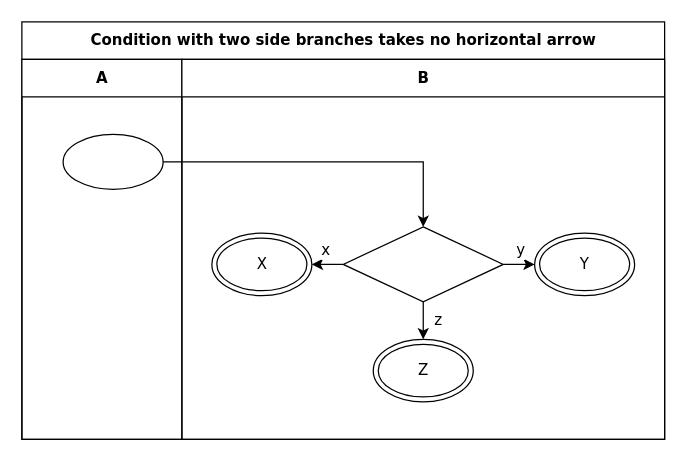
This 688x461 diagram has some shape labels left out. The shapes that lost their labels are listed below. From the top down, each one's centre as x and y in pixels, then its label:
point (112, 161): Enter
point (422, 264): Three-way?
